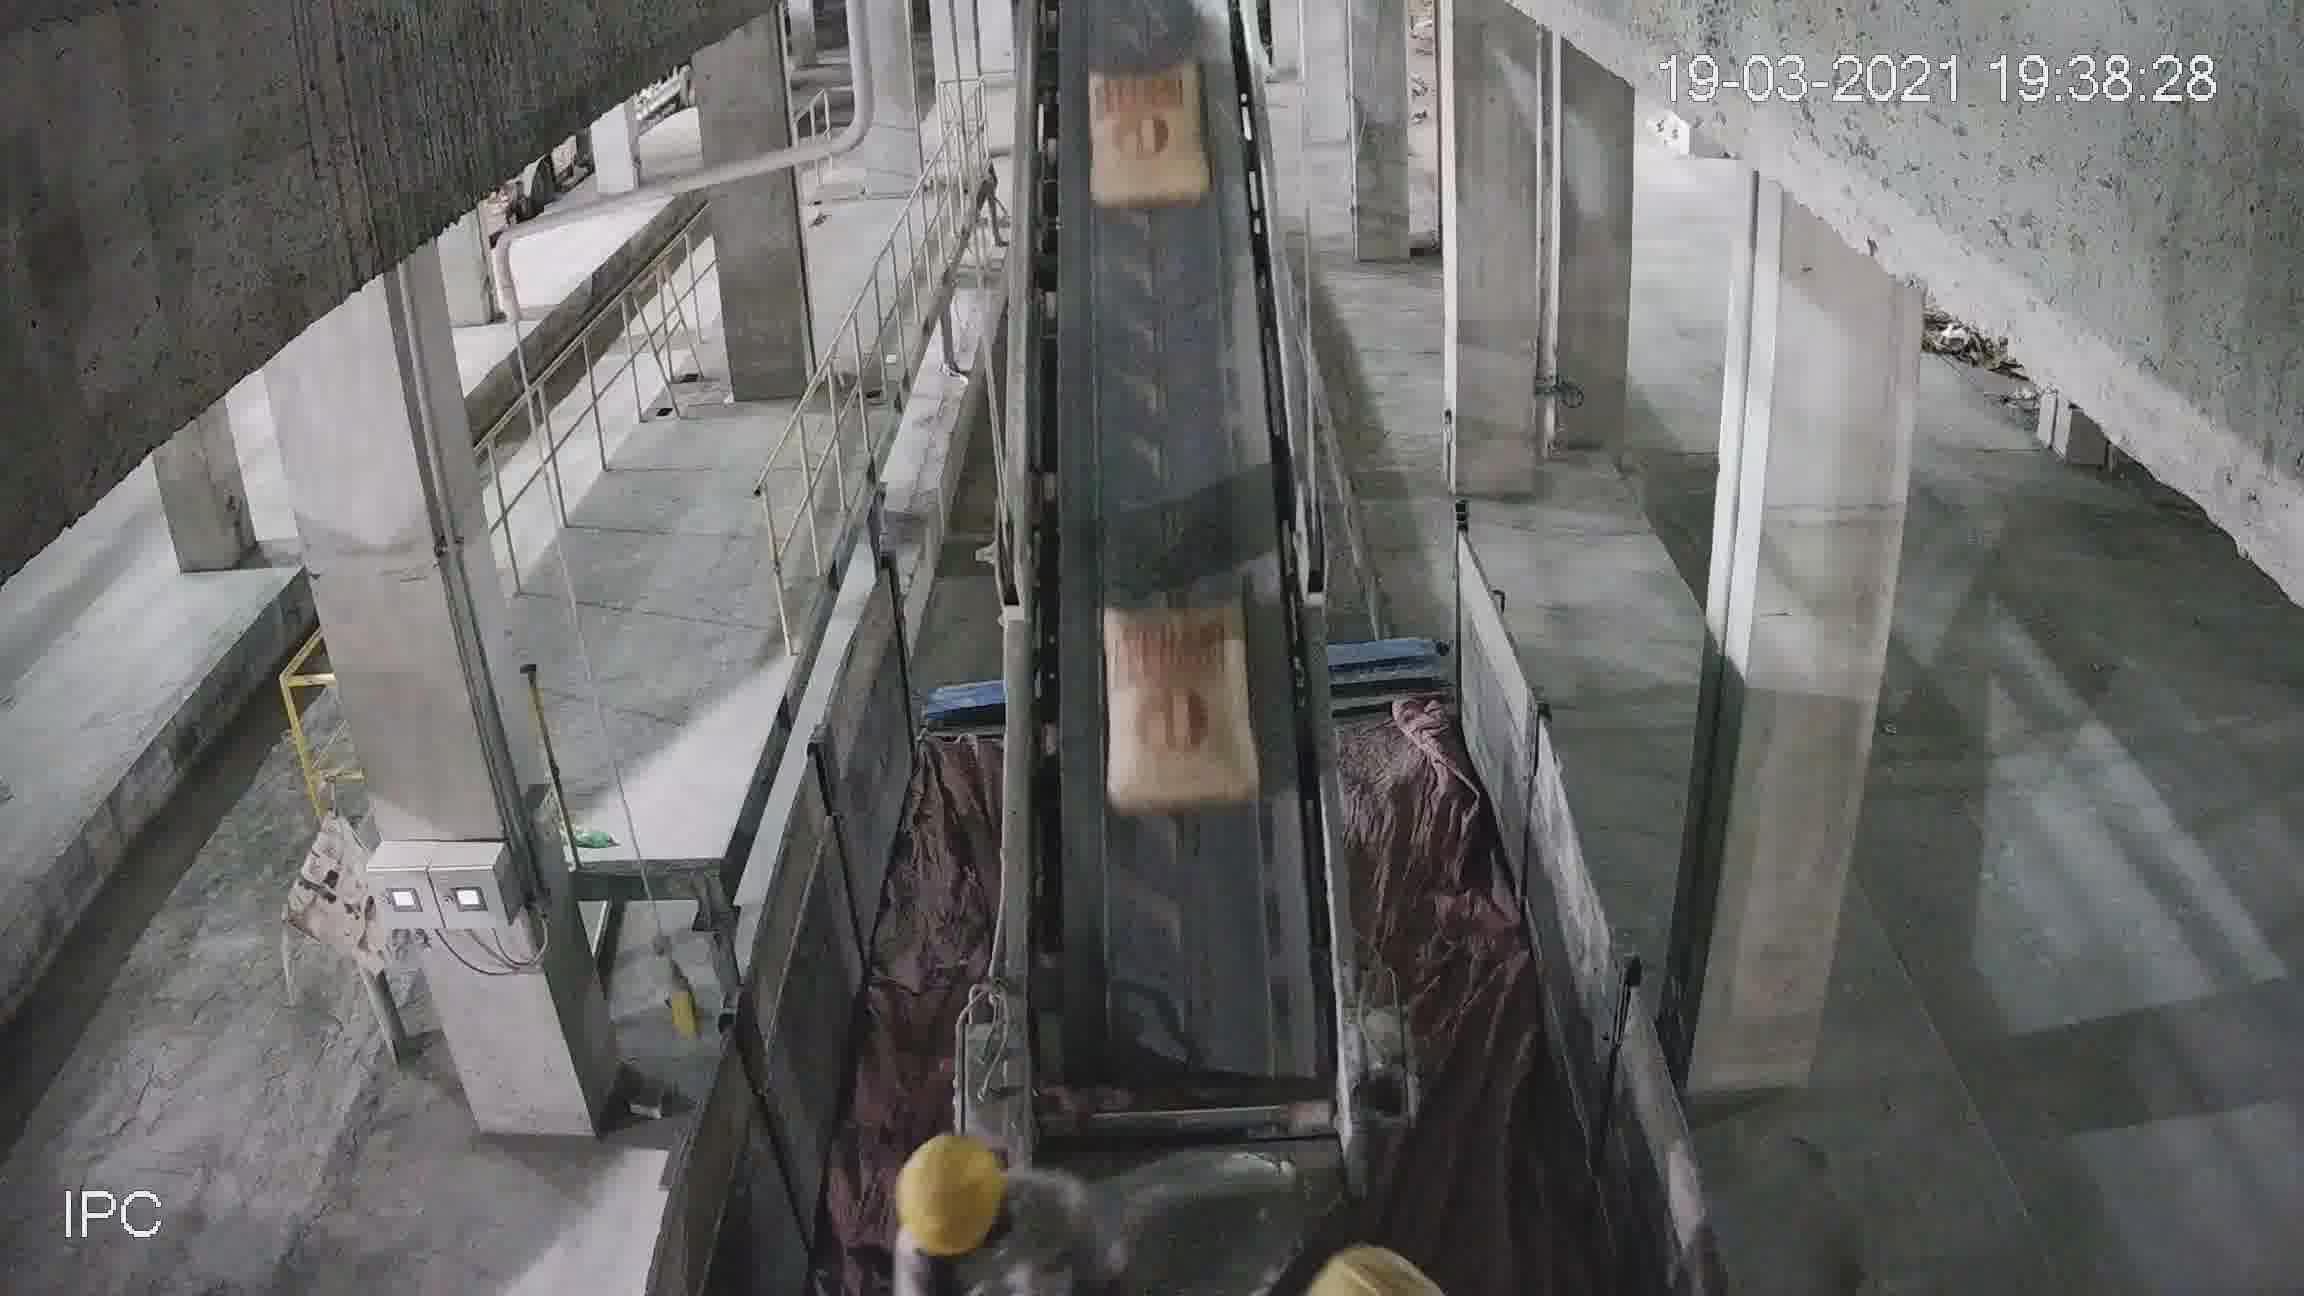bag: (1108, 606, 1252, 807), (1090, 73, 1204, 204)
belt: (1016, 111, 1350, 1111)
